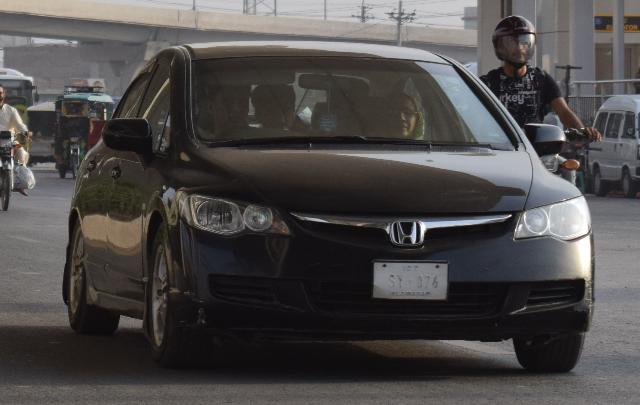plate: (372, 262, 448, 299)
